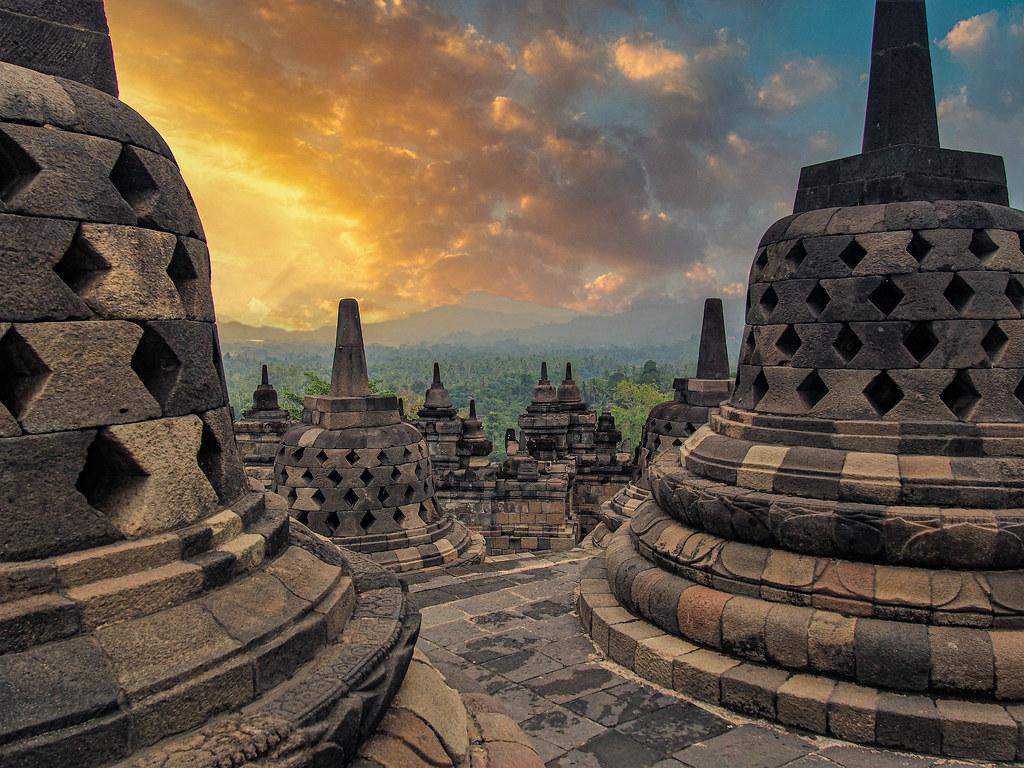temple: (577, 2, 1023, 764), (1, 1, 423, 767), (268, 296, 487, 575)
